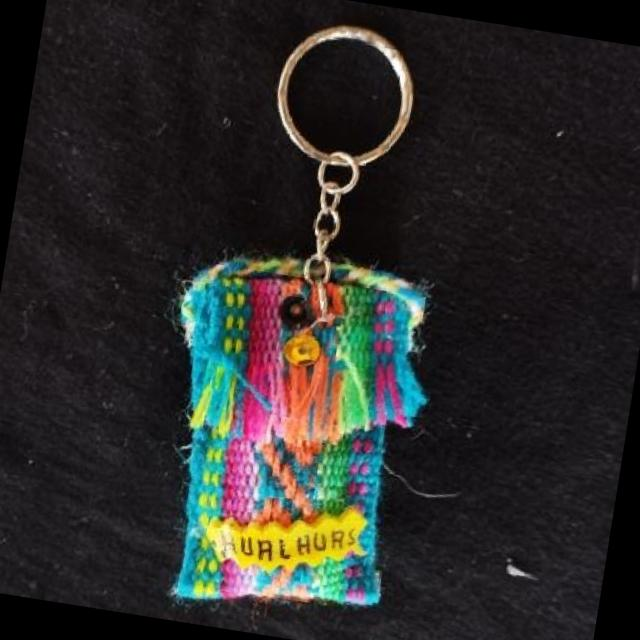Llavero: (132, 232, 450, 634)
